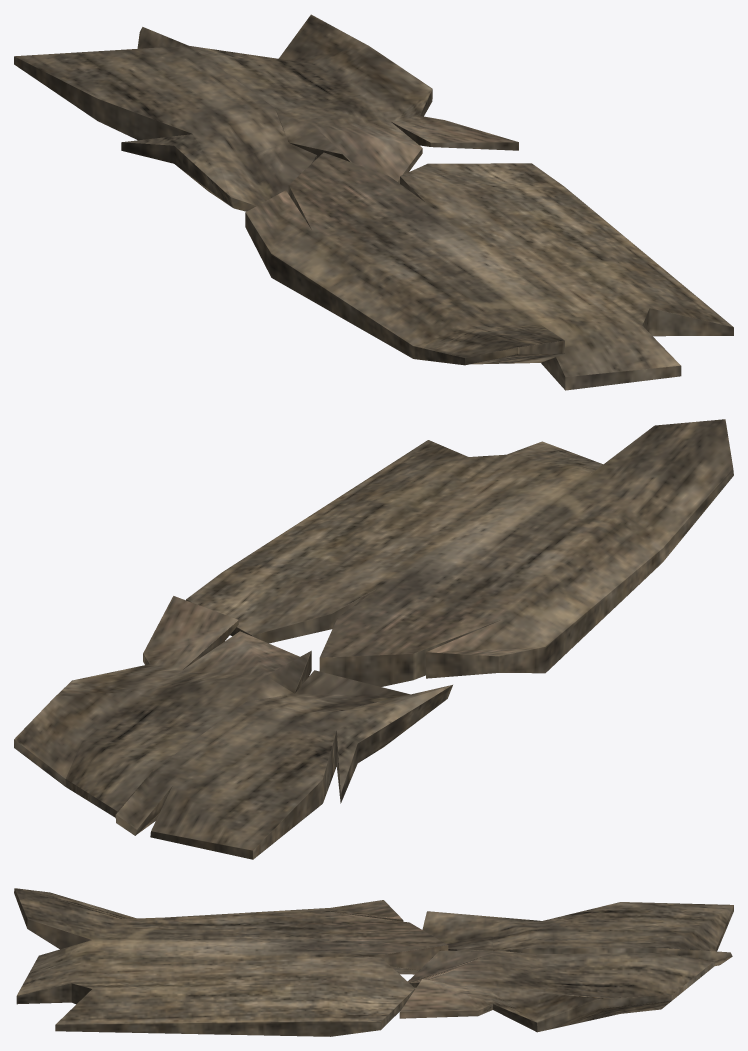
The model's file is fbx_Wood_02.fbx.
The picture shows the model from 3 angles, top to bottom: view 1: azimuth 30°, elevation 25°; view 2: azimuth 150°, elevation 25°; view 3: azimuth 270°, elevation 25°; orthographic projection. The views are drawn at different scales.
Parts seen in each view (by area): view 1: plank_06_Broken; view 2: plank_06_Broken; view 3: plank_06_Broken.
Boxes of the visible parts, box(x1,y1,x2,y2) form: plank_06_Broken: box(14, 14, 733, 390); plank_06_Broken: box(14, 419, 733, 859); plank_06_Broken: box(14, 888, 733, 1036).
Bounding box in the file's own units: 1.05 × 0.2386 × 2.88.
